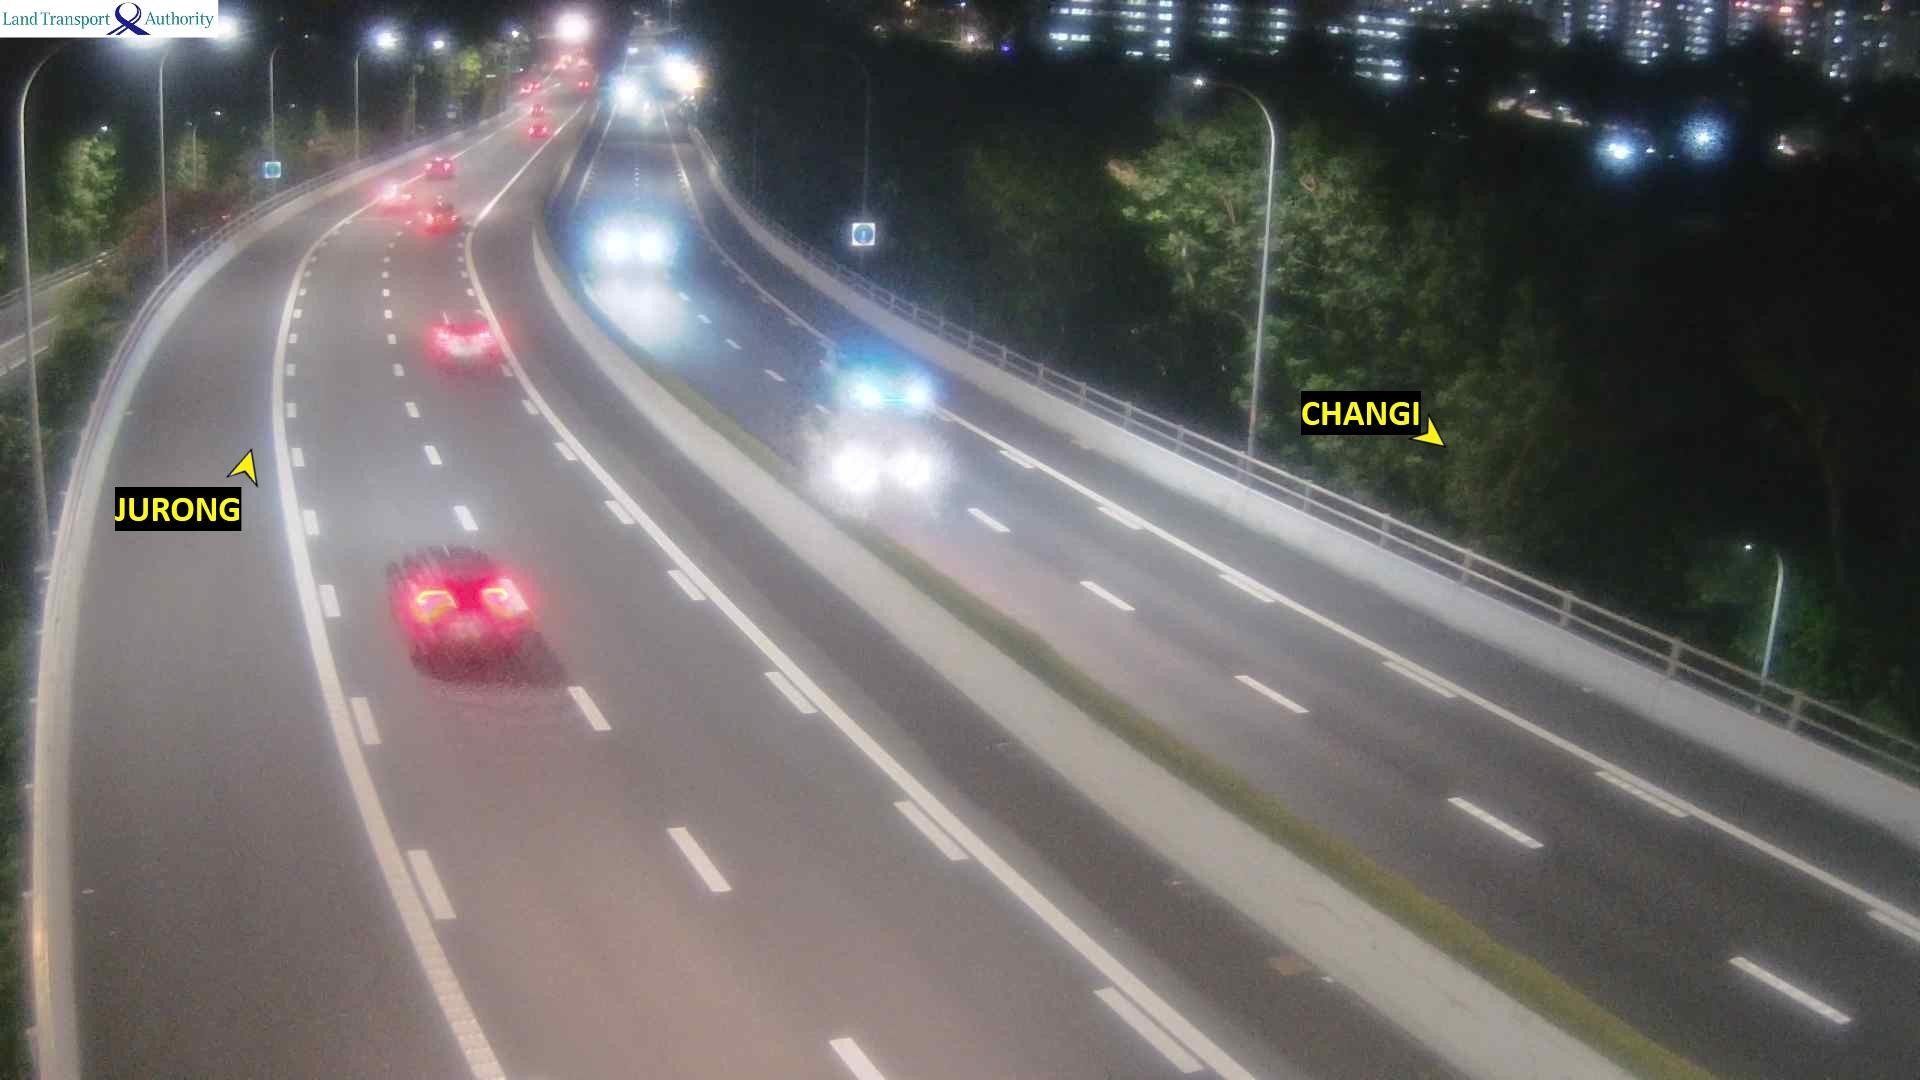incoming: (802, 419, 964, 525), (820, 342, 940, 412)
